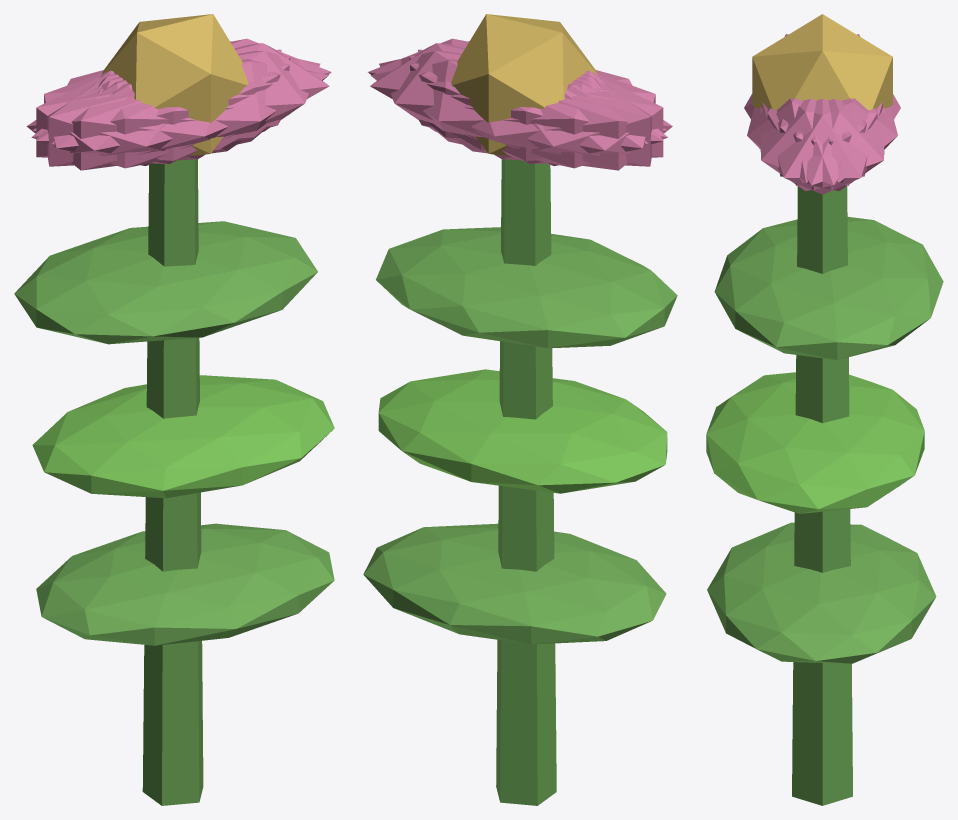
The model's file is ardisia-cornudentata.glb.
3 renders of one model, left to right at view 1: azimuth 30°, elevation 25°; view 2: azimuth 150°, elevation 25°; view 3: azimuth 270°, elevation 25°, orthographic.
Parts seen in each view (by area): view 1: leaf1, leaf2, leaf0, stem, center, petal1, petal6, petal2, petal5, petal7, petal0, petal4 (+2 smaller); view 2: leaf2, leaf0, leaf1, stem, center, petal8, petal3, petal7, petal4, petal2, petal0, petal5 (+2 smaller); view 3: leaf2, leaf0, leaf1, stem, center, petal0, petal5, petal4, petal8, petal1.
Part boxes in pixels (left/top/right/bottom): leaf1: left=32, top=375, right=334, bottom=498; leaf2: left=14, top=221, right=317, bottom=344; leaf0: left=36, top=523, right=334, bottom=645; stem: left=142, top=159, right=203, bottom=805; center: left=101, top=14, right=248, bottom=156; petal1: left=31, top=59, right=328, bottom=168; petal6: left=26, top=72, right=241, bottom=170; petal2: left=47, top=49, right=281, bottom=166; petal5: left=51, top=50, right=320, bottom=160; petal7: left=36, top=56, right=290, bottom=164; petal0: left=101, top=43, right=329, bottom=150; petal4: left=33, top=38, right=331, bottom=141; leaf2: left=376, top=227, right=677, bottom=348; leaf0: left=363, top=523, right=666, bottom=644; leaf1: left=378, top=369, right=667, bottom=493; stem: left=496, top=159, right=556, bottom=805; center: left=451, top=14, right=597, bottom=156; petal8: left=371, top=59, right=667, bottom=168; petal3: left=457, top=72, right=672, bottom=170; petal7: left=418, top=49, right=651, bottom=166; petal4: left=379, top=50, right=647, bottom=160; petal2: left=409, top=56, right=663, bottom=164; petal0: left=370, top=43, right=597, bottom=150; petal5: left=368, top=38, right=666, bottom=141; leaf2: left=714, top=216, right=943, bottom=359; leaf0: left=707, top=522, right=936, bottom=663; leaf1: left=706, top=372, right=924, bottom=513; stem: left=792, top=186, right=852, bottom=805; center: left=752, top=14, right=892, bottom=110; petal0: left=762, top=99, right=882, bottom=194; petal5: left=760, top=98, right=877, bottom=191; petal4: left=767, top=99, right=884, bottom=191; petal8: left=778, top=98, right=897, bottom=182; petal1: left=747, top=98, right=866, bottom=182.
Bounding box in the file's own units: 0.1452 × 0.365 × 0.1033.
